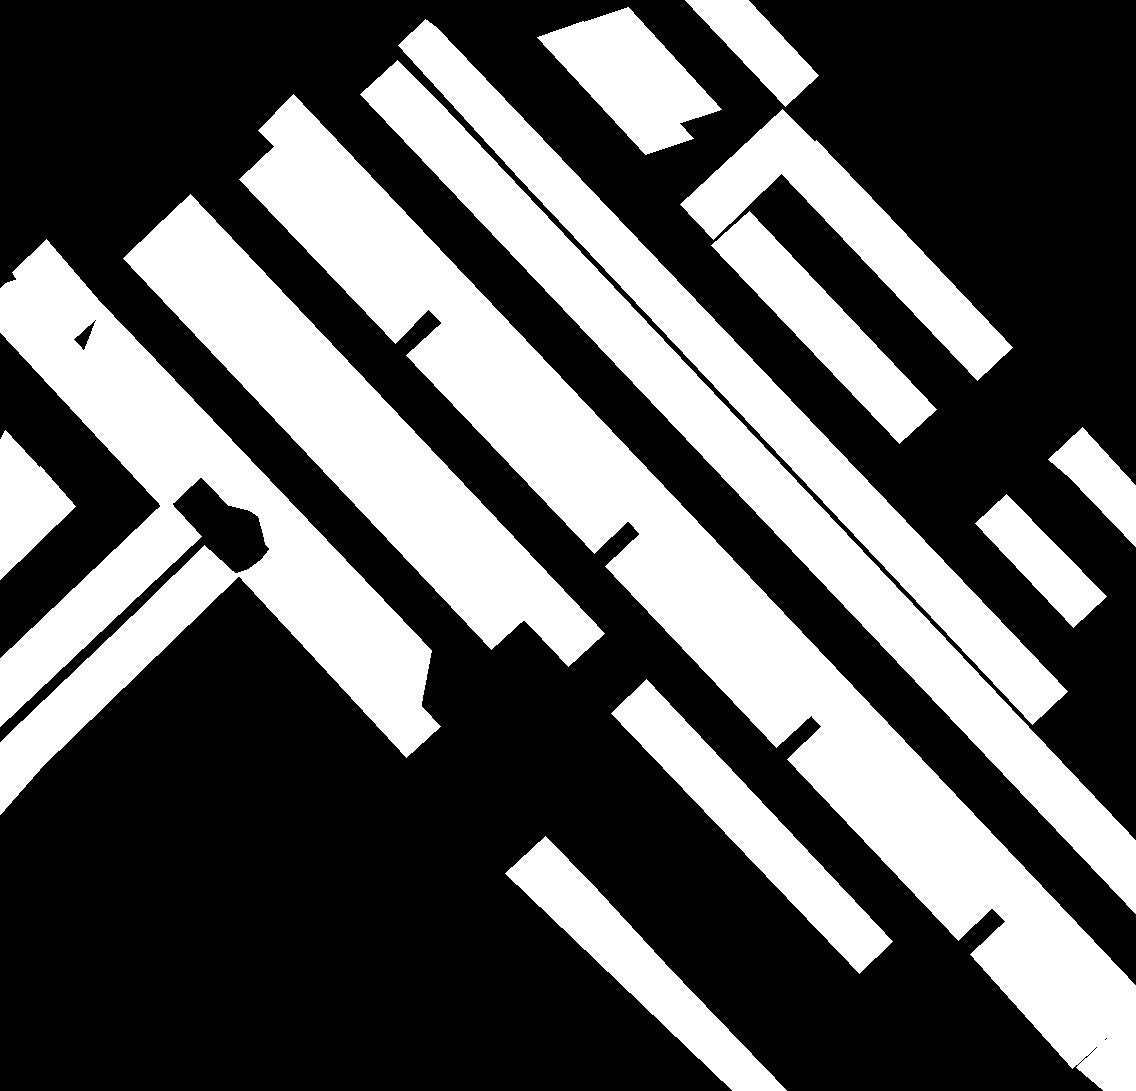parkingspot: (258, 94, 1136, 1033), (360, 60, 1136, 913), (398, 19, 1067, 724), (154, 194, 603, 666), (123, 226, 527, 649), (83, 304, 431, 708), (611, 679, 892, 973), (505, 837, 786, 1091), (0, 545, 238, 814), (780, 140, 1012, 380), (711, 211, 936, 443), (406, 321, 630, 553), (0, 279, 201, 510), (0, 499, 201, 726), (605, 531, 814, 747), (787, 724, 994, 940), (236, 549, 440, 757), (239, 144, 431, 343), (970, 918, 1111, 1068), (537, 21, 693, 154), (680, 110, 814, 239), (975, 494, 1106, 627), (580, 7, 721, 124), (685, 0, 818, 106), (1048, 427, 1136, 547), (12, 239, 106, 340), (0, 466, 75, 579), (1076, 1031, 1136, 1090), (0, 430, 42, 510), (1108, 1009, 1136, 1060)
